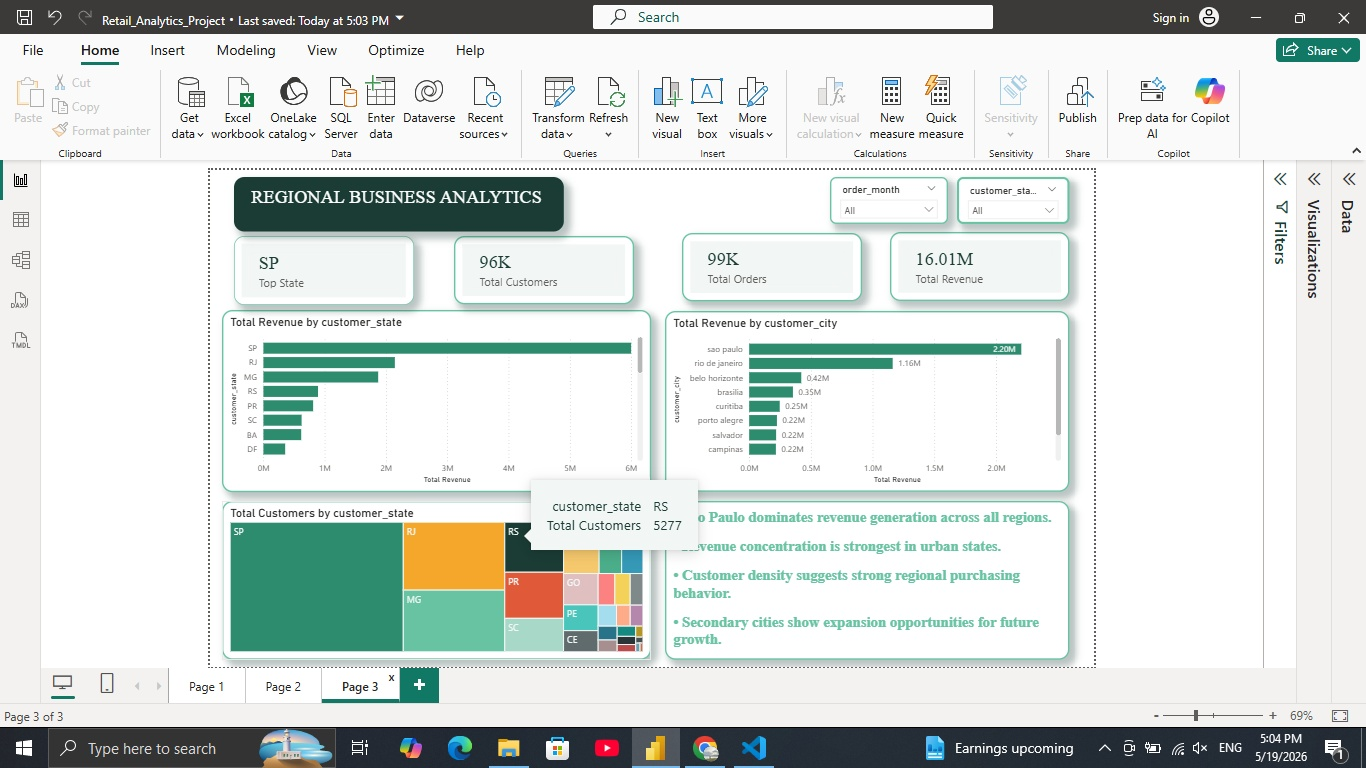

What the dashboard file says about the page in this screenshot:
{"tool":"powerbi","page":{"name":"Page 3","canvas":[1280,720],"ordinal":2},"visuals":[{"type":"clusteredBarChart","fields":{"Category":["master_dataset.customer_state"],"Y":["master_dataset.Total Revenue"]},"box":[17.3,203,622.1,263.5],"z":0},{"type":"barChart","fields":{"Category":["master_dataset.customer_city"],"Y":["master_dataset.Total Revenue"]},"box":[659.5,204.5,586.1,262.1],"z":1000},{"type":"treemap","fields":{"Group":["master_dataset.customer_state"],"Values":["master_dataset.Total Customers"]},"box":[17.3,479.5,622.1,230.4],"z":2000},{"type":"cardVisual","fields":{"Data":["master_dataset.Top State"]},"box":[34.6,95,260.6,100],"z":3000},{"type":"cardVisual","fields":{"Data":["master_dataset.Total Customers"]},"box":[354.2,95,260.6,99.4],"z":4000},{"type":"cardVisual","fields":{"Data":["master_dataset.Total Orders"]},"box":[684,90.7,260.6,99.4],"z":5000},{"type":"cardVisual","fields":{"Data":["master_dataset.Total Revenue"]},"box":[985,90,260,100],"z":6000},{"type":"textbox","box":[659.5,479.5,586.1,230.4],"z":7000},{"type":"textbox","box":[34.6,10.1,478.1,79.2],"z":8000},{"type":"slicer","fields":{"Values":["master_dataset.order_month"]},"box":[898.6,10.1,171.4,67.7],"z":9000},{"type":"slicer","fields":{"Values":["master_dataset.customer_state"]},"box":[1082.9,10.1,162.7,68],"z":10000}]}

Visuals, with their boxes on the page's 1280x720 design canvas (x1, y1, x2, y2). These are canvas units, not pixel positions in the 1366x768 screenshot, which may show the page scaled, cropped or inside an application window:
clusteredBarChart - master_dataset.customer_state x master_dataset.Total Revenue: region(17, 203, 639, 466)
barChart - master_dataset.customer_city x master_dataset.Total Revenue: region(660, 204, 1246, 467)
treemap - master_dataset.customer_state x master_dataset.Total Customers: region(17, 480, 639, 710)
cardVisual - master_dataset.Top State: region(35, 95, 295, 195)
cardVisual - master_dataset.Total Customers: region(354, 95, 615, 194)
cardVisual - master_dataset.Total Orders: region(684, 91, 945, 190)
cardVisual - master_dataset.Total Revenue: region(985, 90, 1245, 190)
textbox: region(660, 480, 1246, 710)
textbox: region(35, 10, 513, 89)
slicer - master_dataset.order_month: region(899, 10, 1070, 78)
slicer - master_dataset.customer_state: region(1083, 10, 1246, 78)
